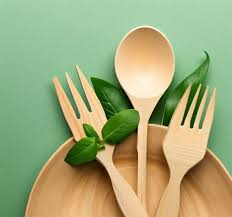Wooden Utensils: (51, 25, 215, 199)
